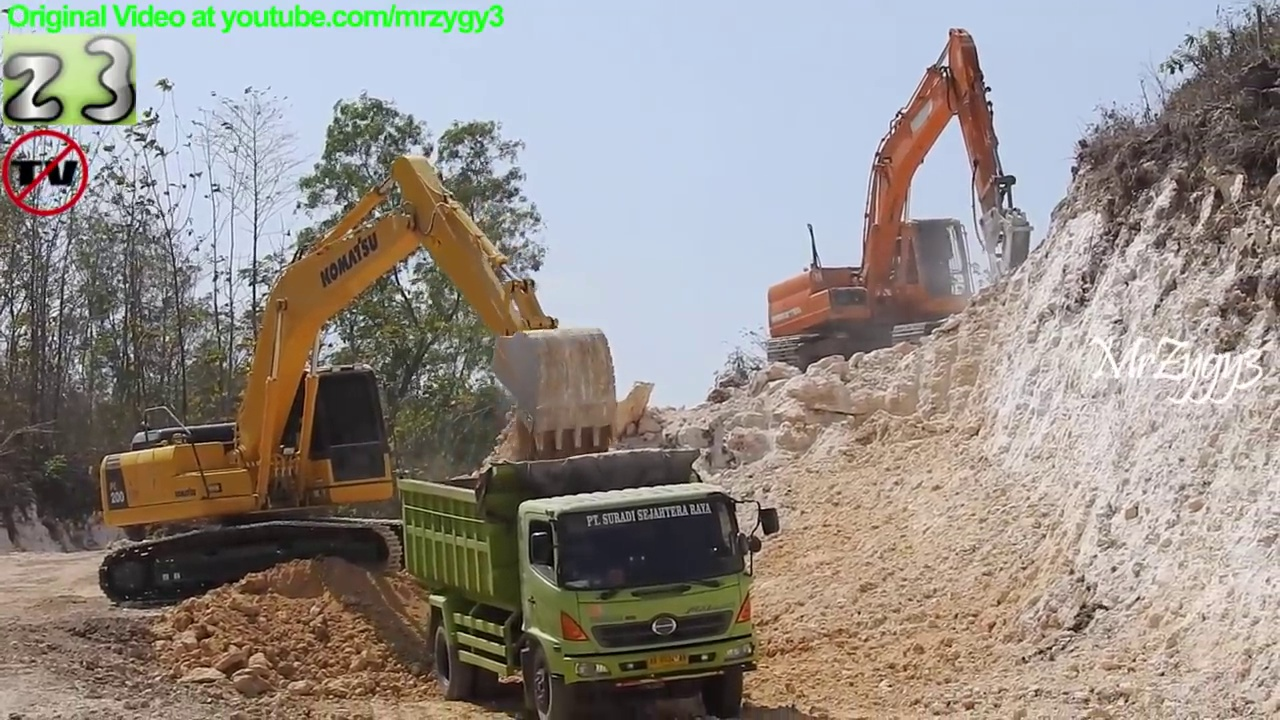excavator: (96, 152, 623, 612), (758, 21, 1046, 381)
truck: (393, 443, 790, 720)
